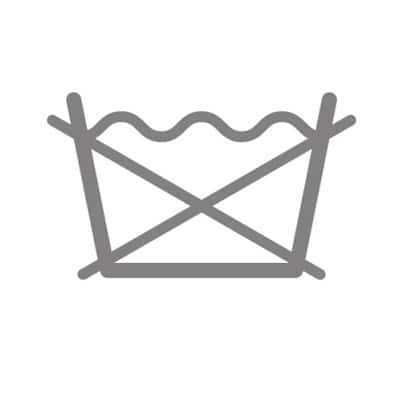do_not_wash: (42, 86, 358, 287)
